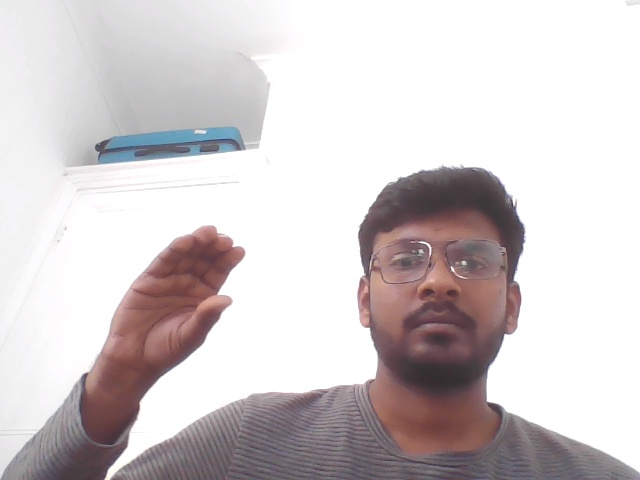No: (56, 181, 302, 448)
